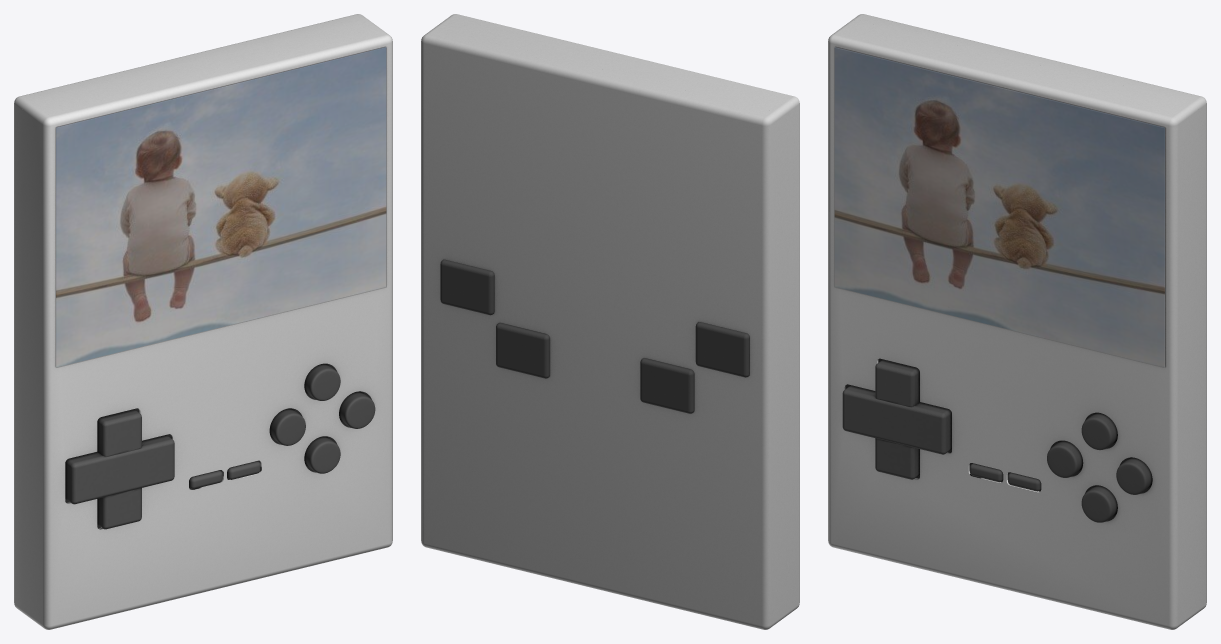
File: handheld_v5.glb
3 views of the same model, side by side, from view 1: azimuth 30°, elevation 25°; view 2: azimuth 150°, elevation 25°; view 3: azimuth 330°, elevation 25° (orthographic).
Parts seen in each view (by area): view 1: base, sceen, sceen.001, base.001, select.001, button.001, select.006; view 2: base.001, base, speacer.002, speacer.004, speacer.005, speacer.003; view 3: base, sceen, sceen.001, base.001, select.001, button.001, select.006.
Part boxes in pixels (x1,y1,x2,y2): base: [22, 20, 392, 629]; sceen: [56, 47, 386, 367]; sceen.001: [56, 47, 386, 367]; base.001: [14, 14, 368, 613]; select.001: [65, 435, 174, 504]; button.001: [269, 363, 375, 473]; select.006: [97, 409, 141, 529]; base.001: [421, 29, 778, 629]; base: [432, 14, 799, 621]; speacer.002: [440, 259, 494, 315]; speacer.004: [640, 358, 694, 413]; speacer.005: [695, 322, 749, 377]; speacer.003: [496, 323, 549, 378]; base: [828, 20, 1198, 629]; sceen: [834, 47, 1164, 367]; sceen.001: [834, 47, 1164, 367]; base.001: [852, 14, 1206, 613]; select.001: [842, 385, 951, 454]; button.001: [1047, 412, 1152, 522]; select.006: [875, 359, 919, 479].
Bounding box in the file's own units: 0.2868 × 0.402 × 0.0608.
Materials: 5 (3 with a texture image).
